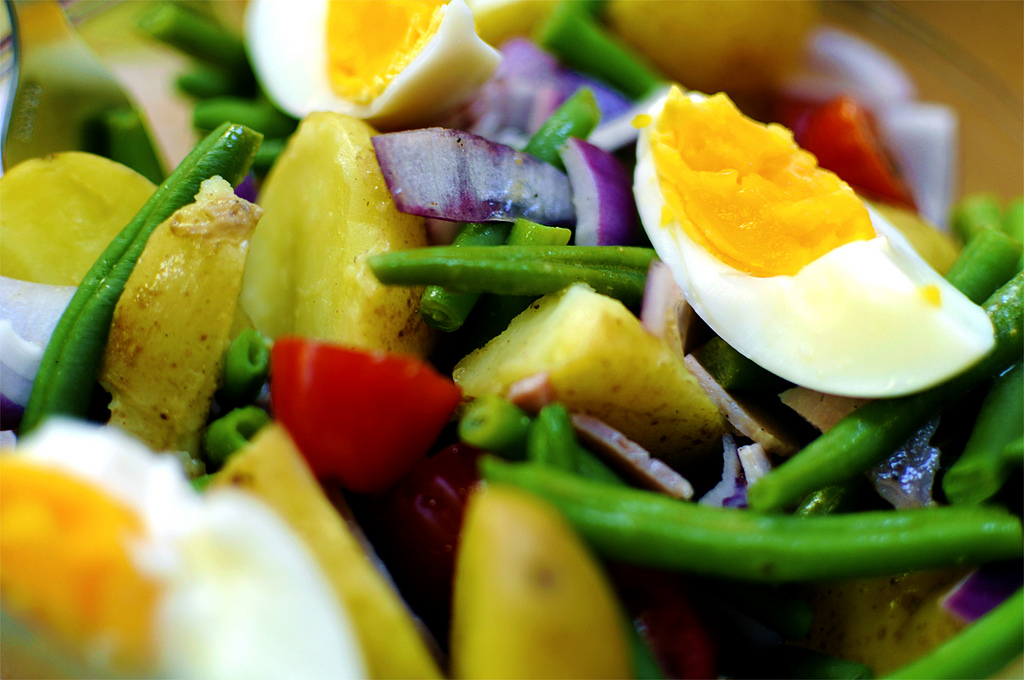boiled potatoes: (258, 112, 414, 357), (466, 281, 681, 440), (131, 193, 244, 448)
fried egg: (633, 79, 960, 381), (235, 6, 487, 108)
